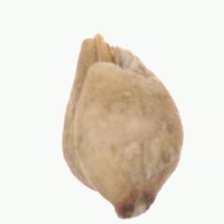L1: (73, 33, 144, 75), (109, 190, 157, 218)
L2: (61, 34, 184, 218)
